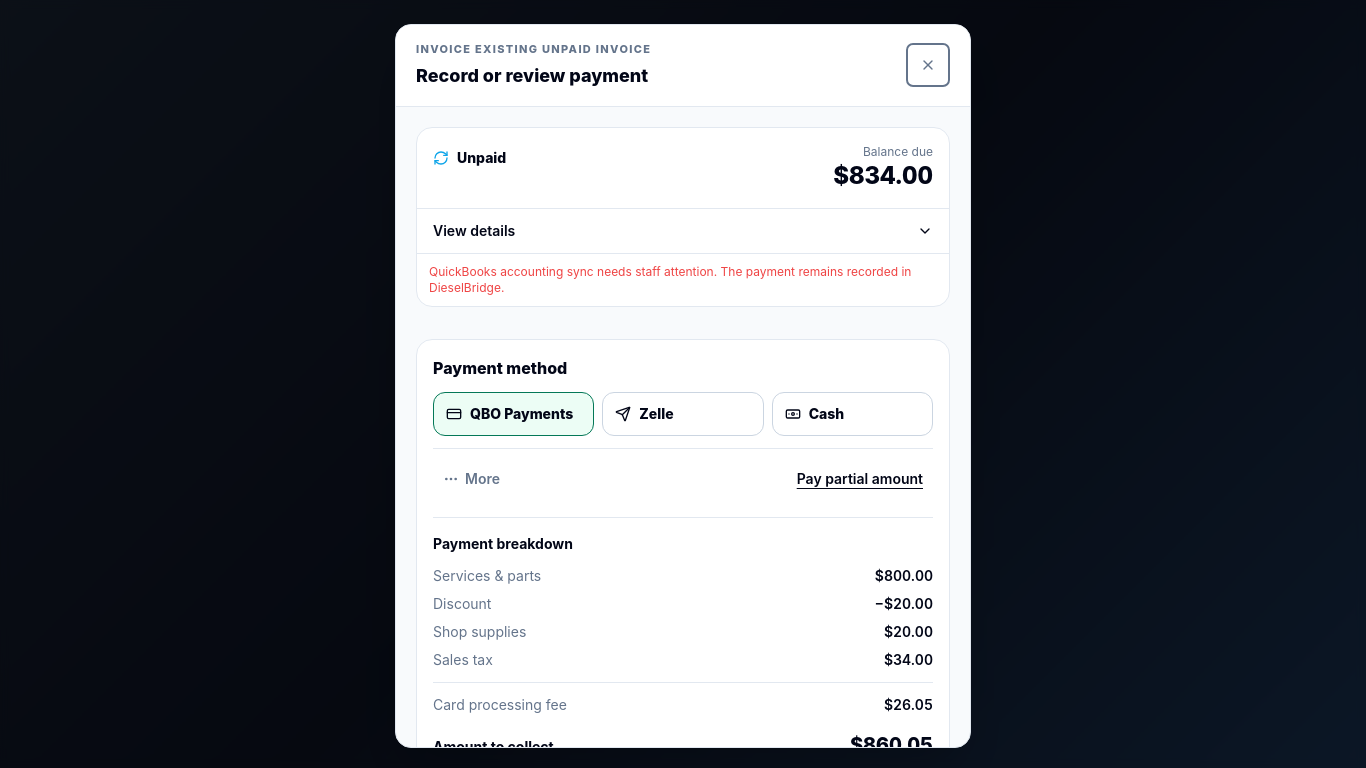
Test case: Staff payment choice remains independent of historical export status › shows the authoritative breakdown and changes card fees to zero for noncard tenders without recording anything
This screenshot has width=1366, height=768.
Expected: the text "Services & parts" is shown, [433,566,541,584]
Expected: the text "Shop supplies" is shown, [433,622,526,640]
Click the radio button labelled "Zelle": (683, 414) [602,392,764,436]
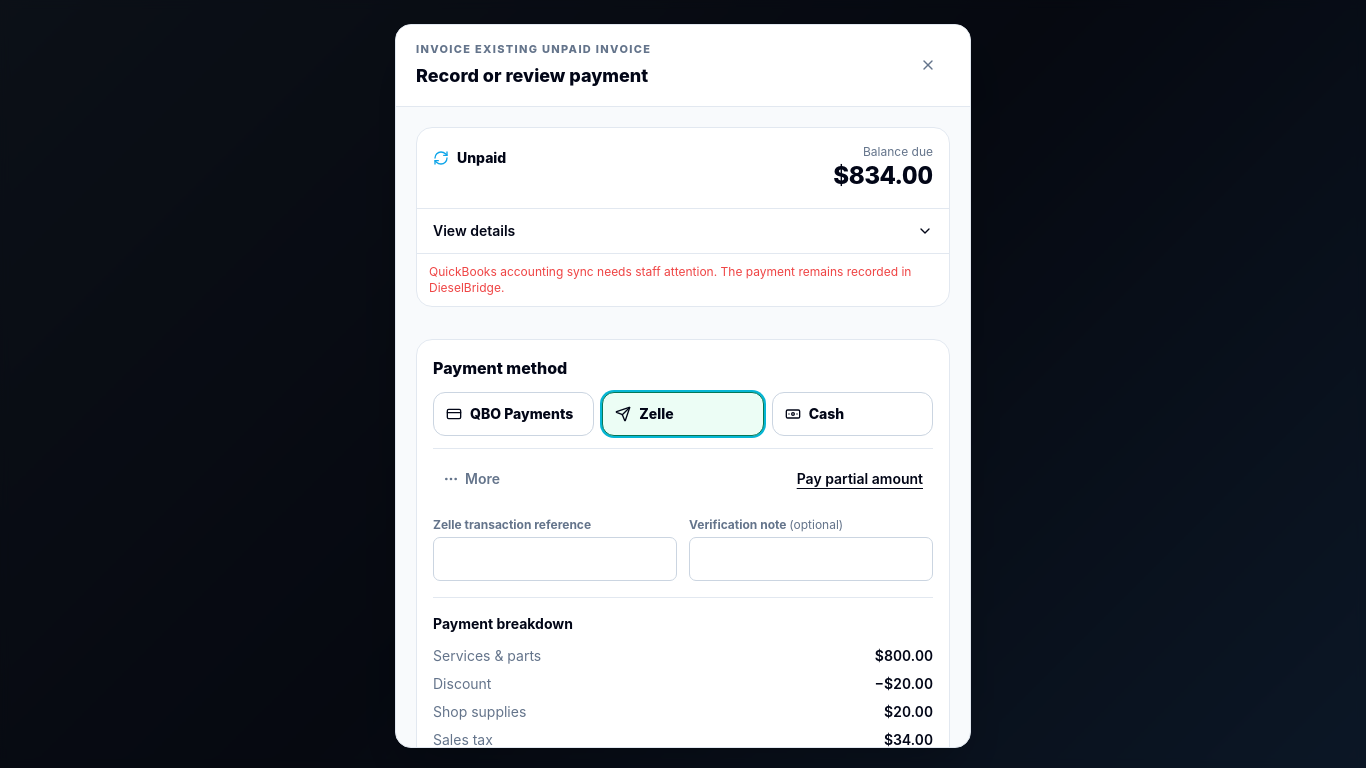
Expected: the text "Card processing fee" is gone
Click the button with aria-label "More payment methods": (472, 478) [433,456,510,500]
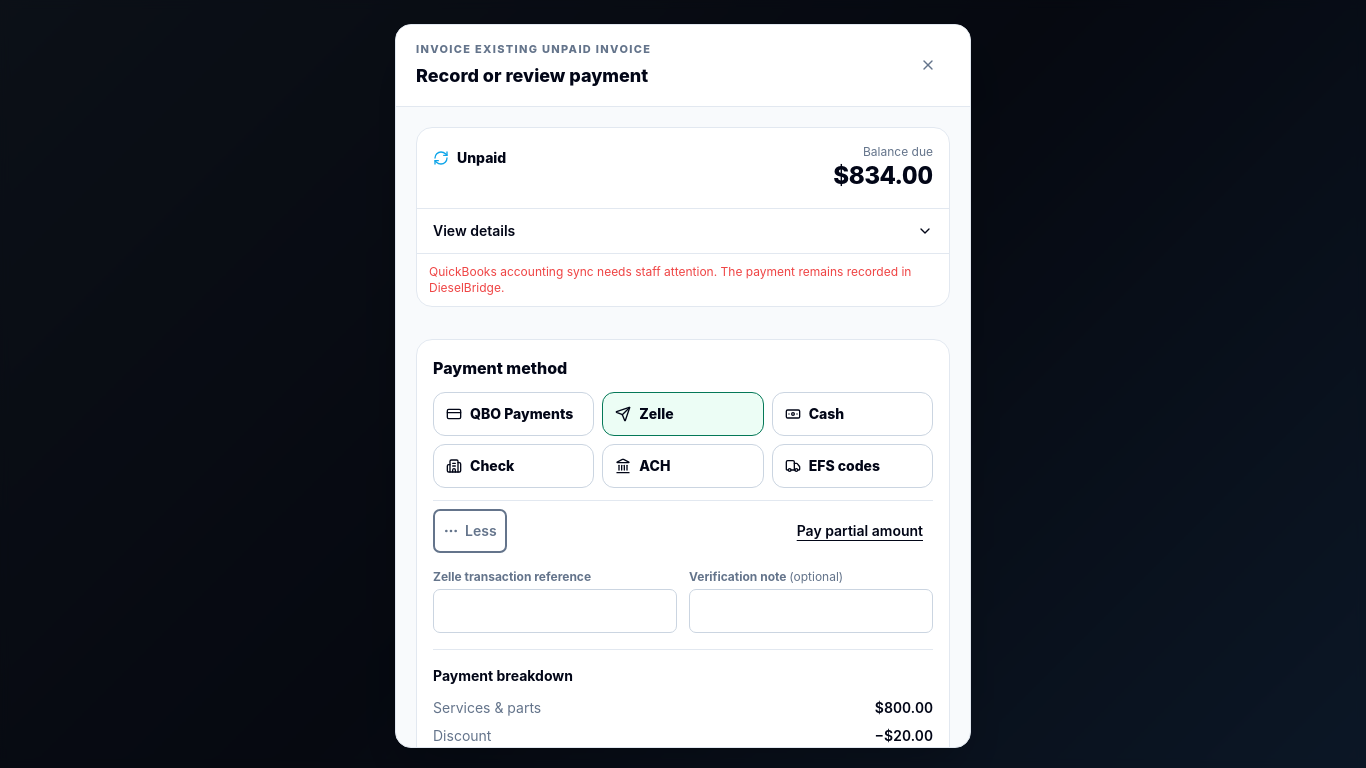
Click the radio button labelled "Check": (514, 466) [433,444,594,488]
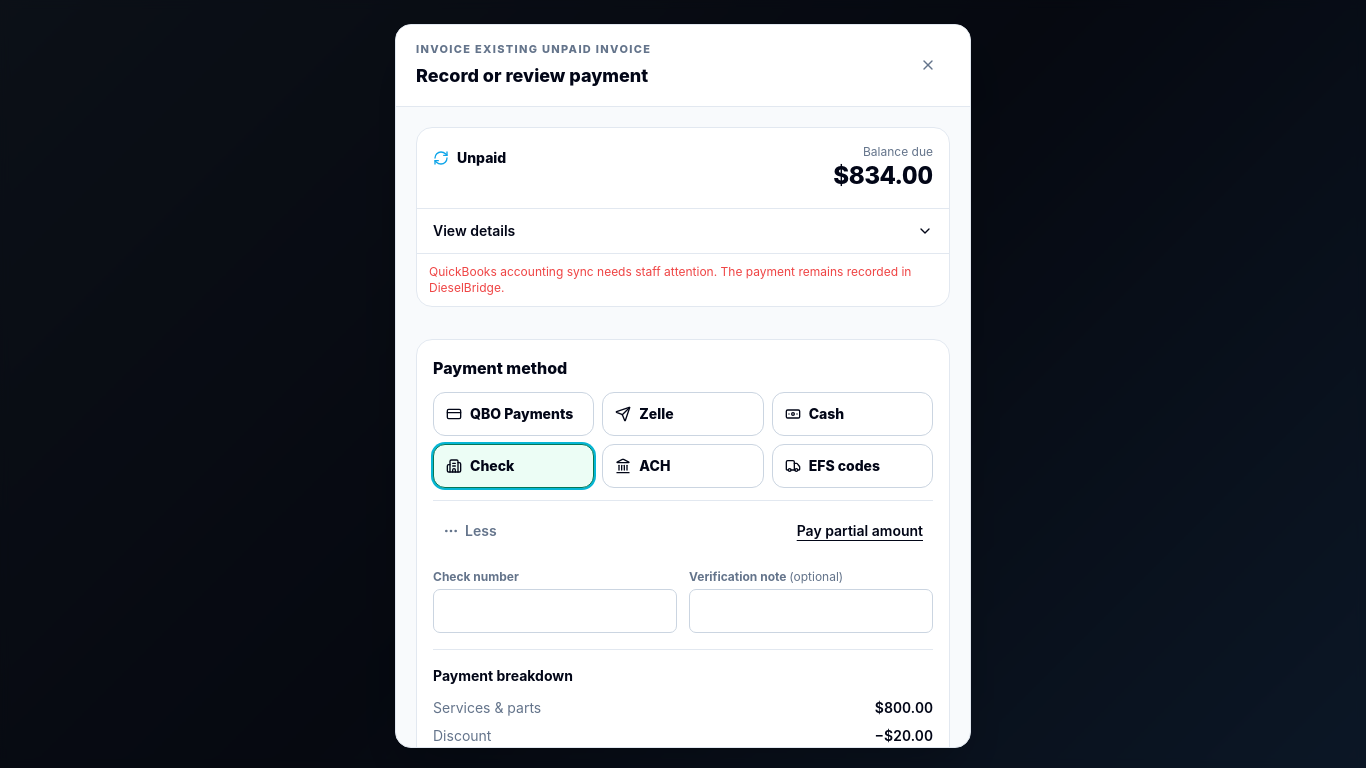
Expected: the text "Card processing fee" is not shown
Click the radio button labelled "ACH": (683, 466) [602,444,764,488]
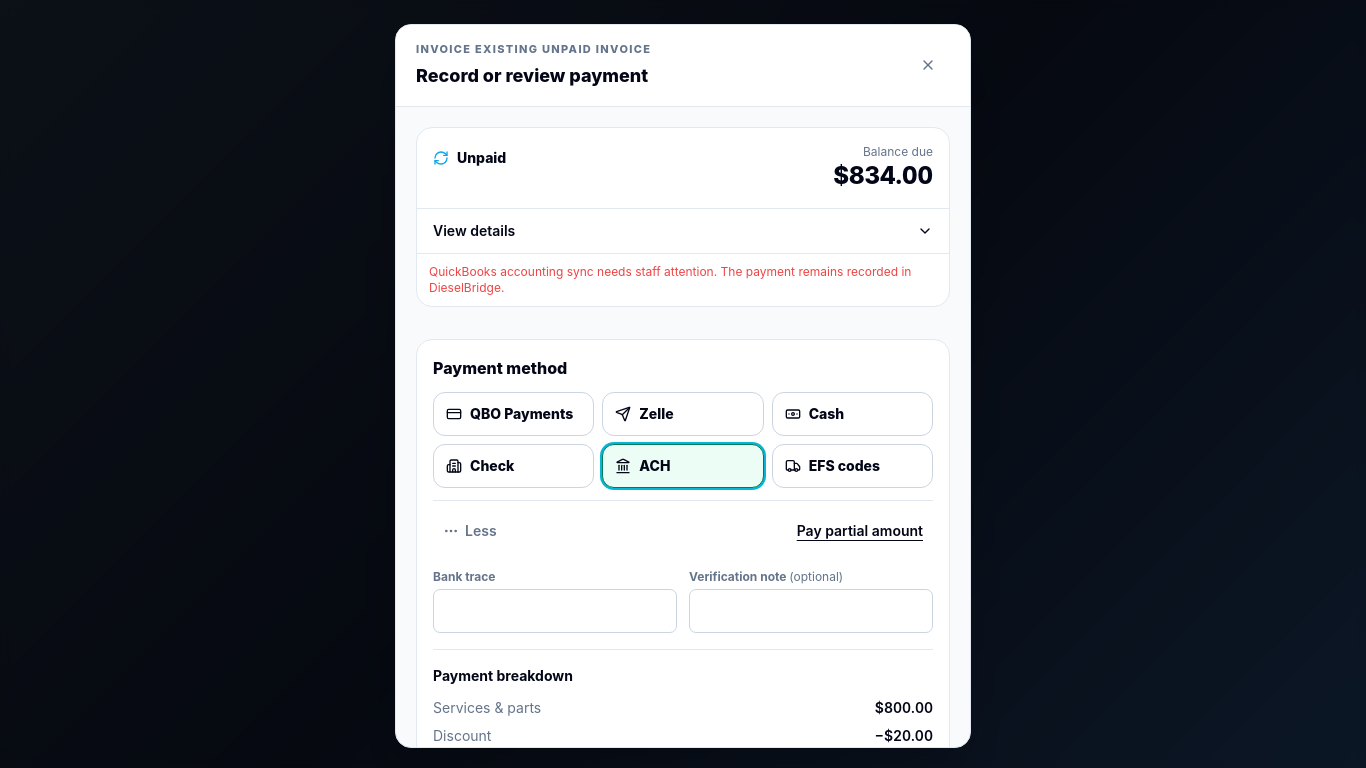
Expected: the text "Card processing fee" is not shown
Click the radio button labelled "Cash": (852, 414) [772,392,933,436]
(page scrolled)
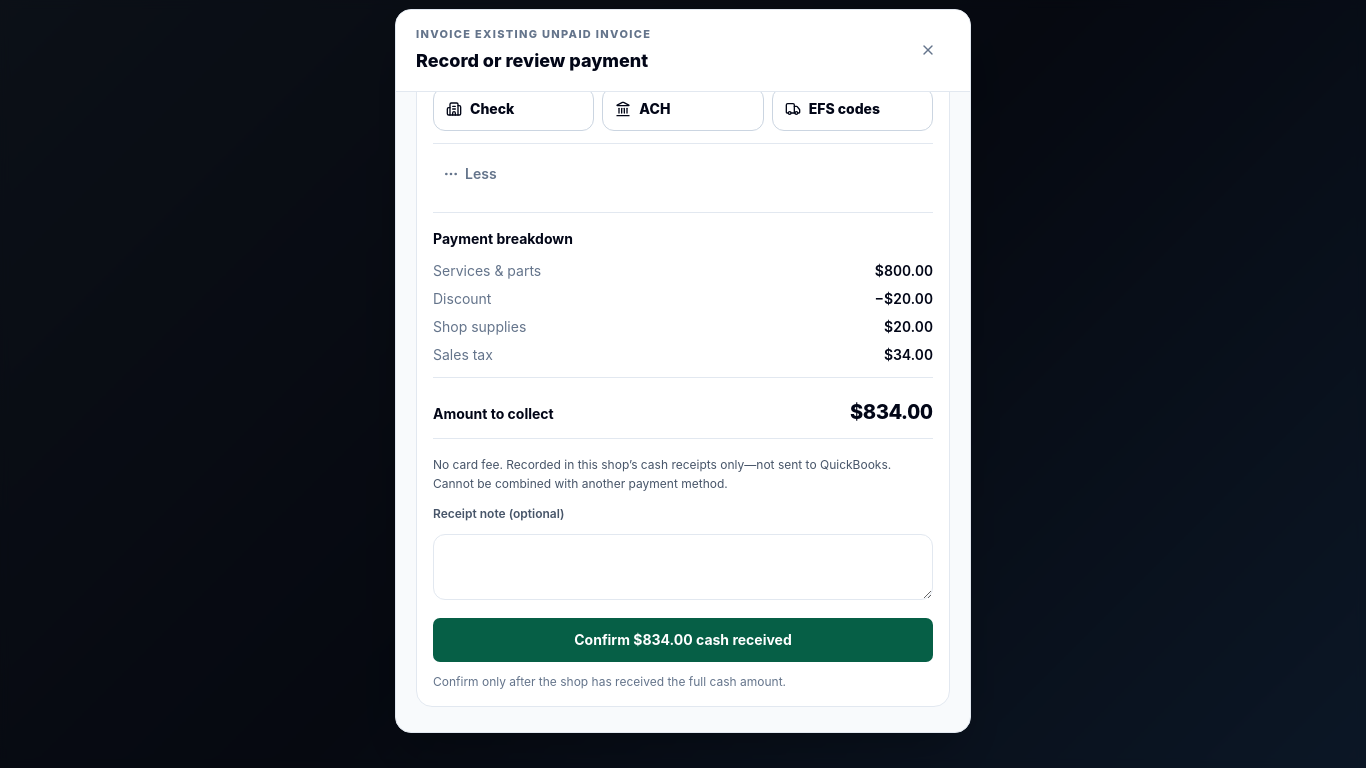
Expected: the text "Card processing fee" is not shown
Expected: the text "$860.05" reads "$834.00", [850,400,933,424]
